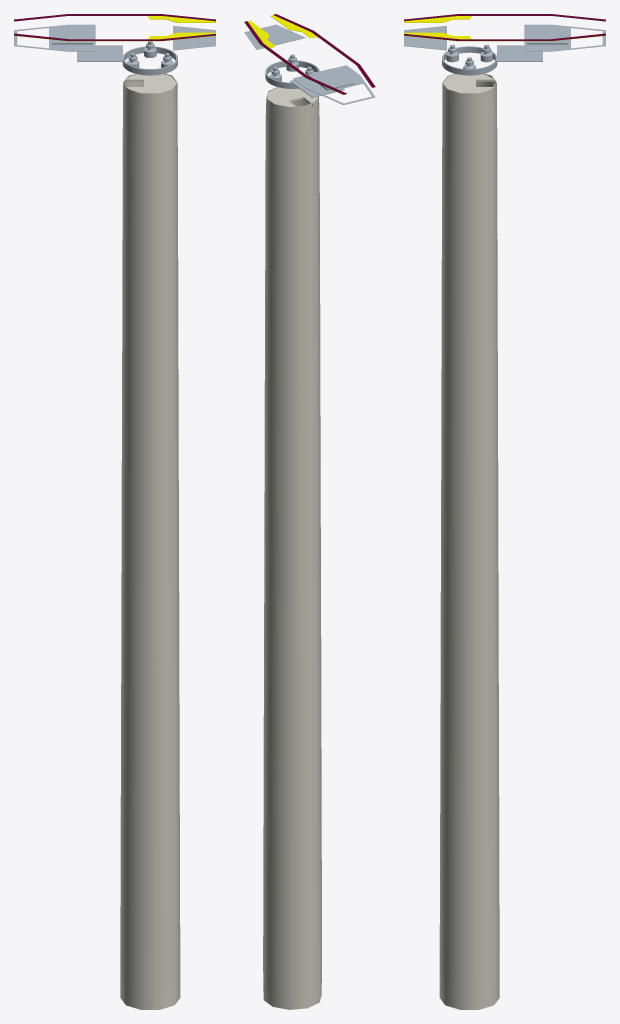
Rendered from tower.obj.
The picture shows the model from 3 angles, left to right: view 1: azimuth 90°, elevation 25°; view 2: azimuth 210°, elevation 25°; view 3: azimuth 270°, elevation 25°; orthographic projection.
Visible parts, largest first — view 1: 1, 5, 7, 9, 3; view 2: 1, 5, 9, 7, 3; view 3: 1, 5, 7, 9, 3.
Part boxes in pixels (x1,y1,x2,y2): 1: (120,73,180,1009); 5: (14,24,215,61); 7: (122,41,177,75); 9: (14,14,215,40); 3: (14,16,215,41); 1: (263,87,321,1009); 5: (244,24,375,104); 9: (244,14,375,94); 7: (265,54,319,88); 3: (244,15,375,94); 1: (439,73,499,1009); 5: (404,24,605,61); 7: (442,44,497,75); 9: (404,14,605,40); 3: (404,16,605,41).
Size of the model in its own units: 2001 by 33820 by 6370.
